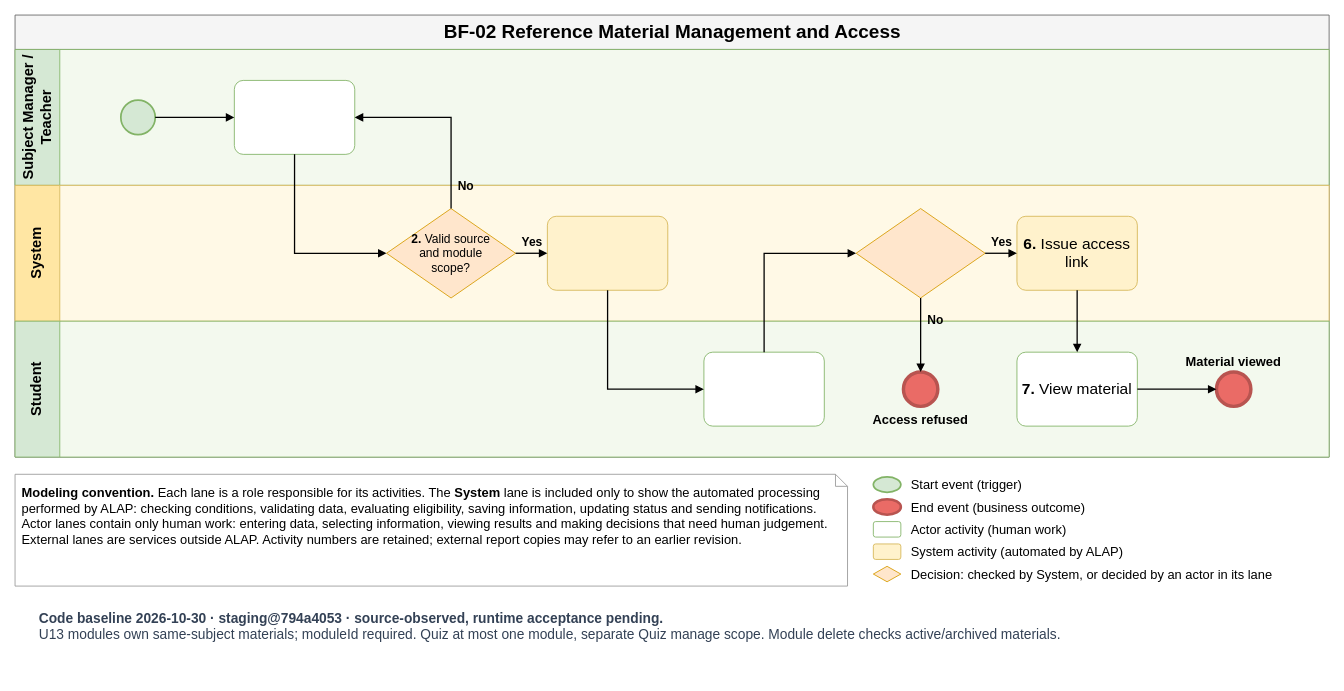
Some shapes in this 1344 by 691 pixel diagram are drawn without their labels. The shapes that lost their labels are listed below. From the top down, each one's centre as x and y in pixels, then its label:
At point (138, 117): "New material".
At point (294, 117): "1. Select module Add file or link".
At point (607, 252): "3. Store material with moduleId".
At point (920, 253): "5. Access allowed?".
At point (763, 388): "4. Select material".
